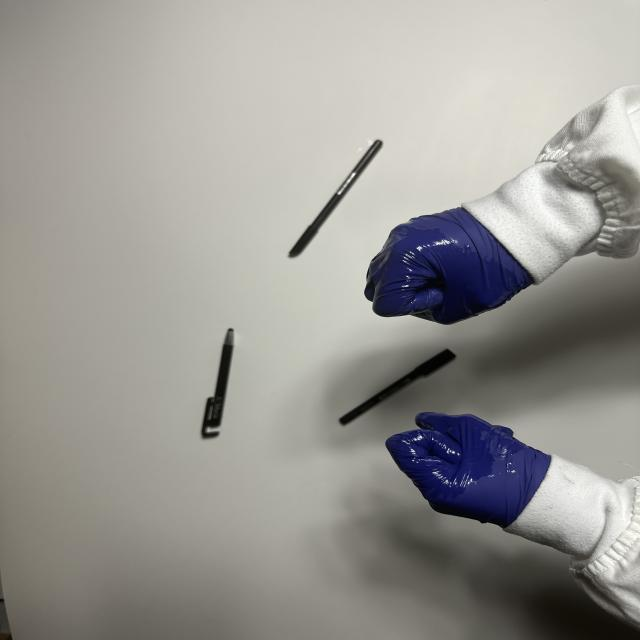gloves_contaminated: (365, 208, 533, 324), (386, 412, 551, 528)
